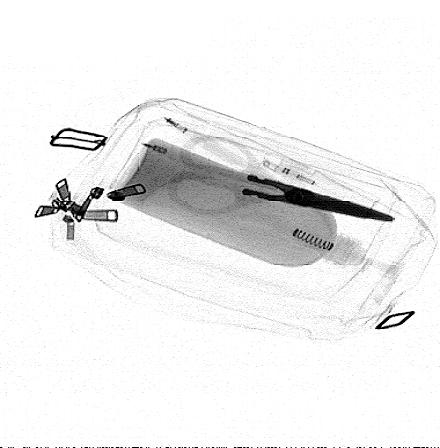Scissors: (166, 133, 396, 223)
